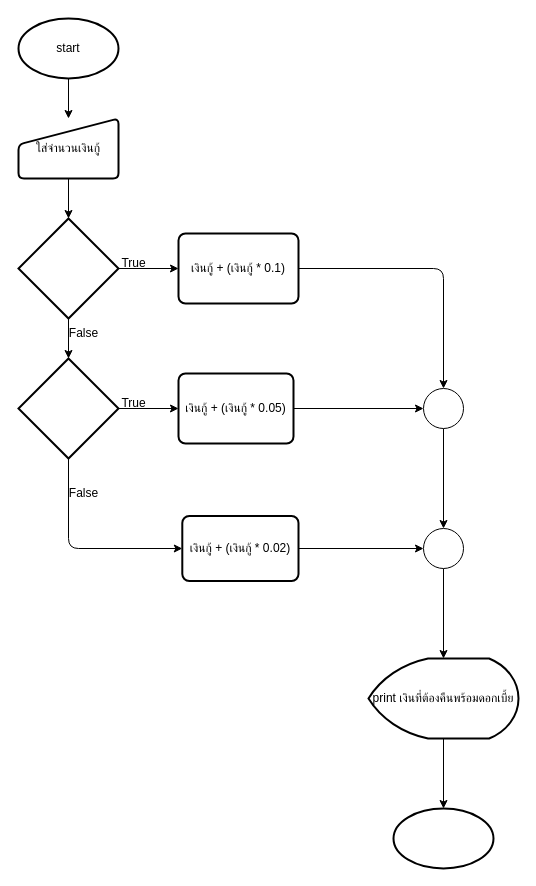
Image size: 536x886. Some labels were removed from this diagram. The shapes that lost their labels are listed below. From the top down, each one's centre as x and y in pixels, then its label:
the point at 68,268: เงินกู้ = 1 ถึง 1000
the point at 68,408: เงินกู้ = 1001 ถึง 10000
the point at 443,838: end
